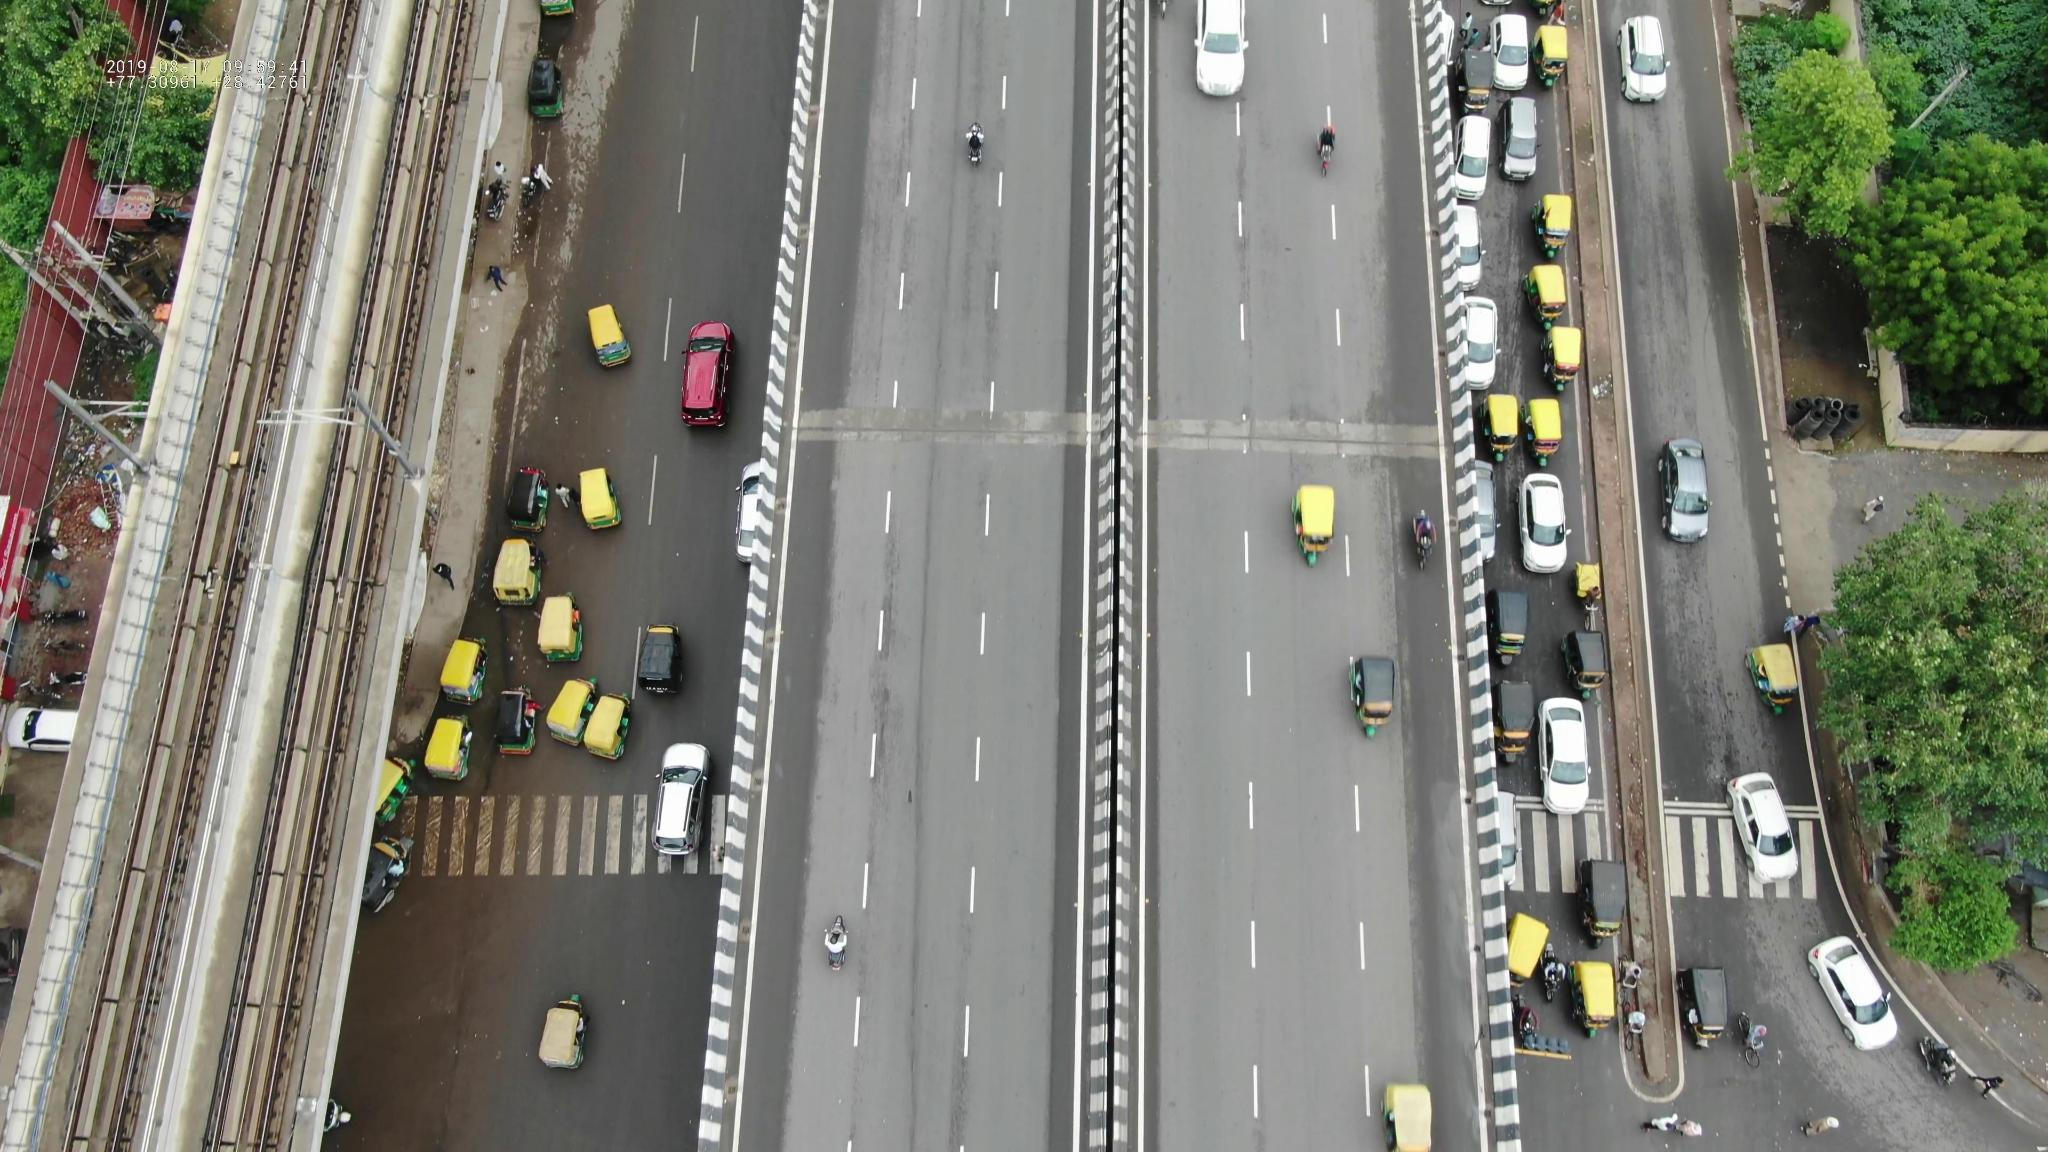Muddy_road: (336, 888, 471, 1139)
